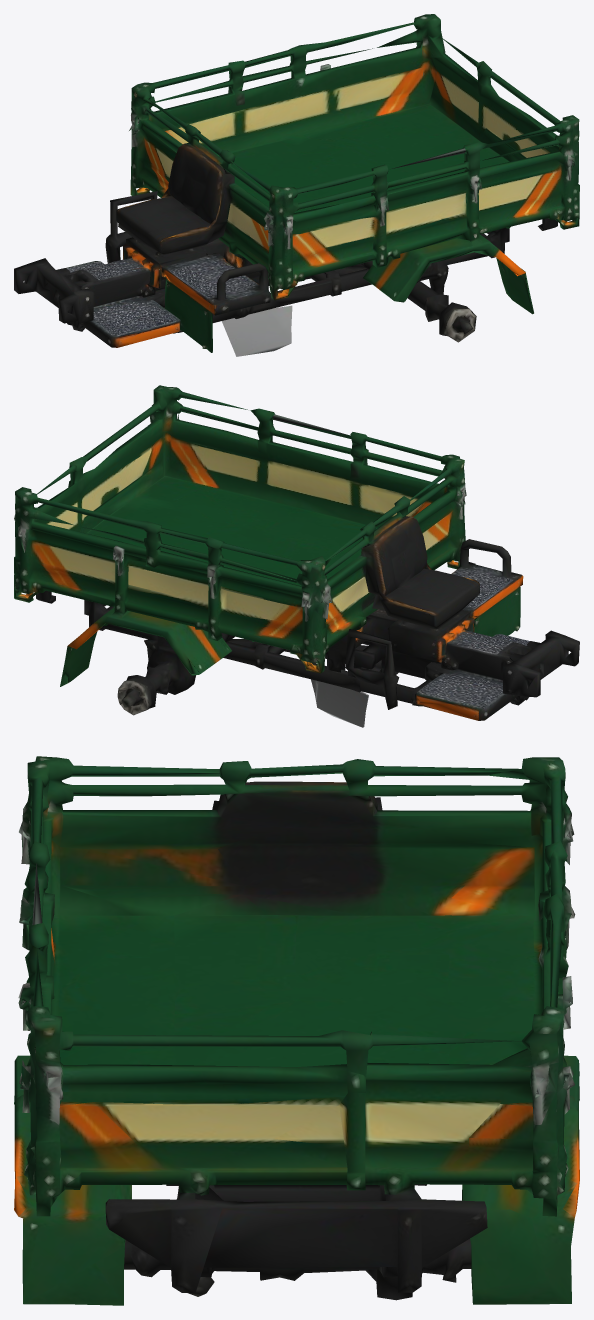
Rendered from patpat-kasa-tripo.glb.
3 views of the same model, one above another, from view 1: azimuth 30°, elevation 25°; view 2: azimuth 150°, elevation 25°; view 3: azimuth 270°, elevation 25° (orthographic). The views are drawn at different scales.
Visible parts, largest first — view 1: tripo_node_94d567fb-310a-4a20-9a12-de2815f15178; view 2: tripo_node_94d567fb-310a-4a20-9a12-de2815f15178; view 3: tripo_node_94d567fb-310a-4a20-9a12-de2815f15178.
Boxes of the visible parts, <box> form: tripo_node_94d567fb-310a-4a20-9a12-de2815f15178: <box>14,14,579,356</box>; tripo_node_94d567fb-310a-4a20-9a12-de2815f15178: <box>14,385,579,727</box>; tripo_node_94d567fb-310a-4a20-9a12-de2815f15178: <box>14,756,579,1305</box>.
Size of the model in its own units: 0.9764 by 0.4285 by 0.5435.
1 material, 1 textured.
